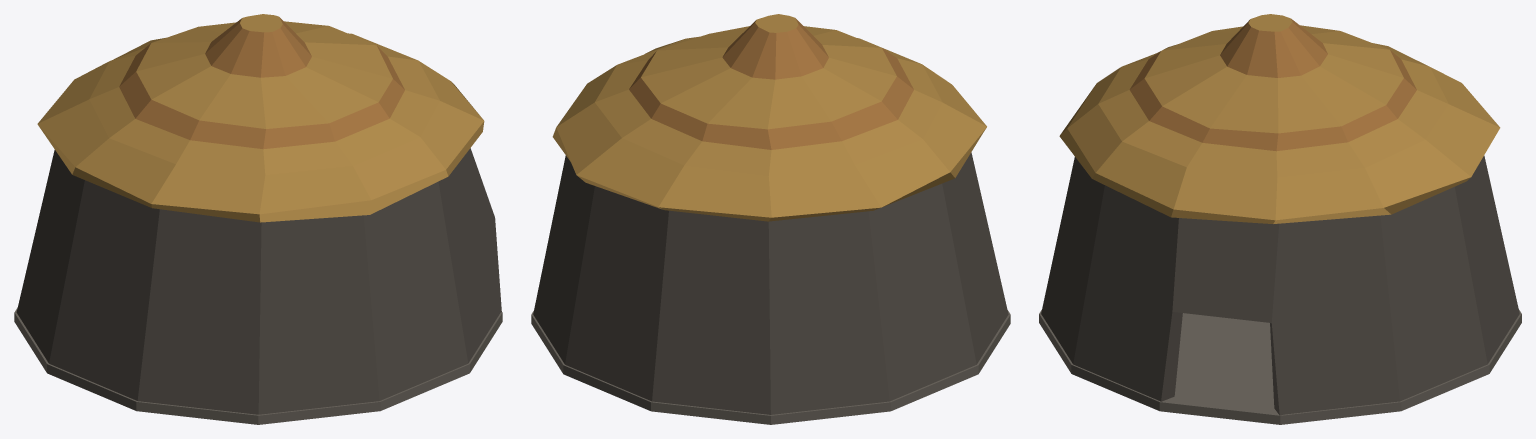
The model's file is forest_people_house_04.fbx.
3 views of the same model, side by side, from view 1: azimuth 30°, elevation 25°; view 2: azimuth 150°, elevation 25°; view 3: azimuth 270°, elevation 25° (orthographic).
Parts seen in each view (by area): view 1: Cylinder.001, Cylinder.003, Cylinder.002; view 2: Cylinder.001, Cylinder.003, Cylinder.002; view 3: Cylinder.001, Cylinder.003, Cylinder.002.
Boxes of the visible parts, x1,y1,x2,y2 form: Cylinder.001: (16, 148, 501, 414); Cylinder.003: (37, 14, 484, 222); Cylinder.002: (14, 308, 502, 424); Cylinder.001: (533, 152, 1008, 414); Cylinder.003: (552, 14, 986, 221); Cylinder.002: (531, 310, 1010, 424); Cylinder.001: (1041, 155, 1519, 415); Cylinder.003: (1059, 14, 1500, 223); Cylinder.002: (1039, 310, 1521, 424).
Bounding box in the file's own units: 382 × 263 × 382.
